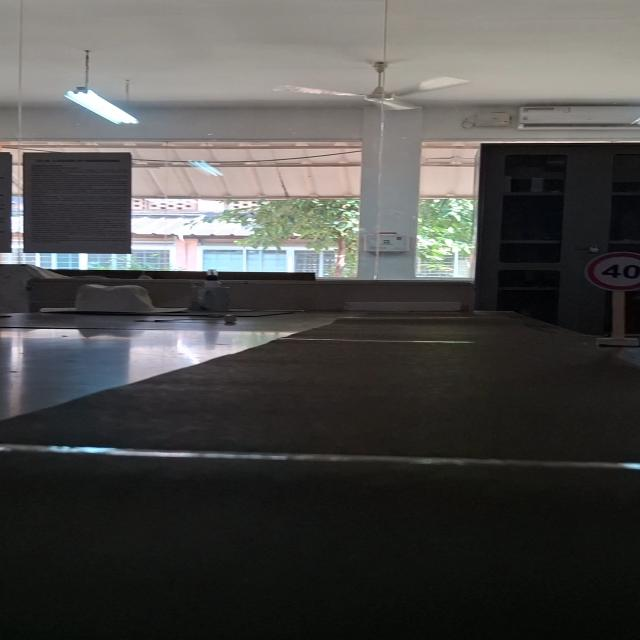Speed40: (580, 248, 640, 294)
